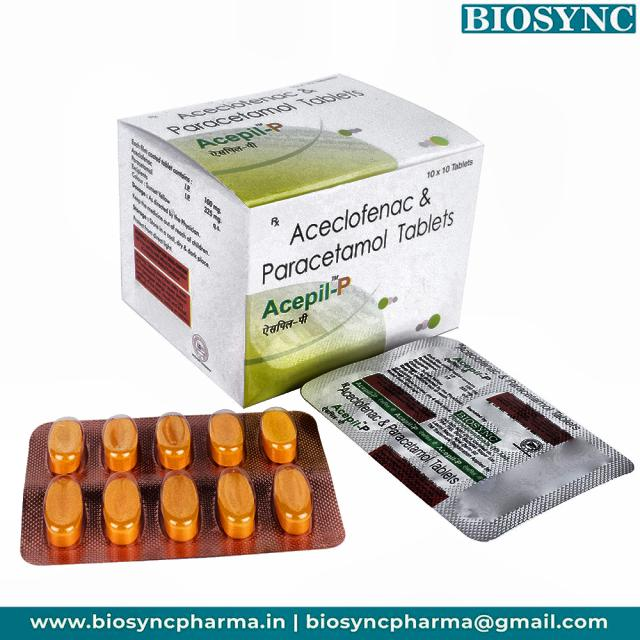Paracetamol: (246, 148, 485, 405)
